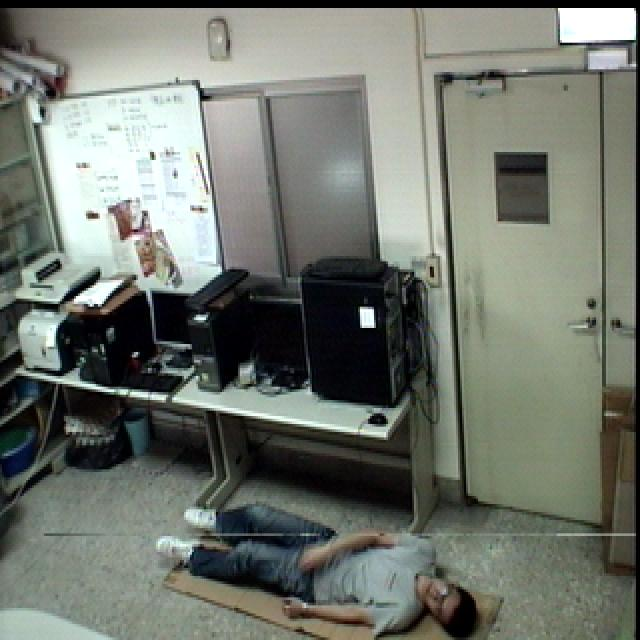lie: (154, 479, 484, 640)
